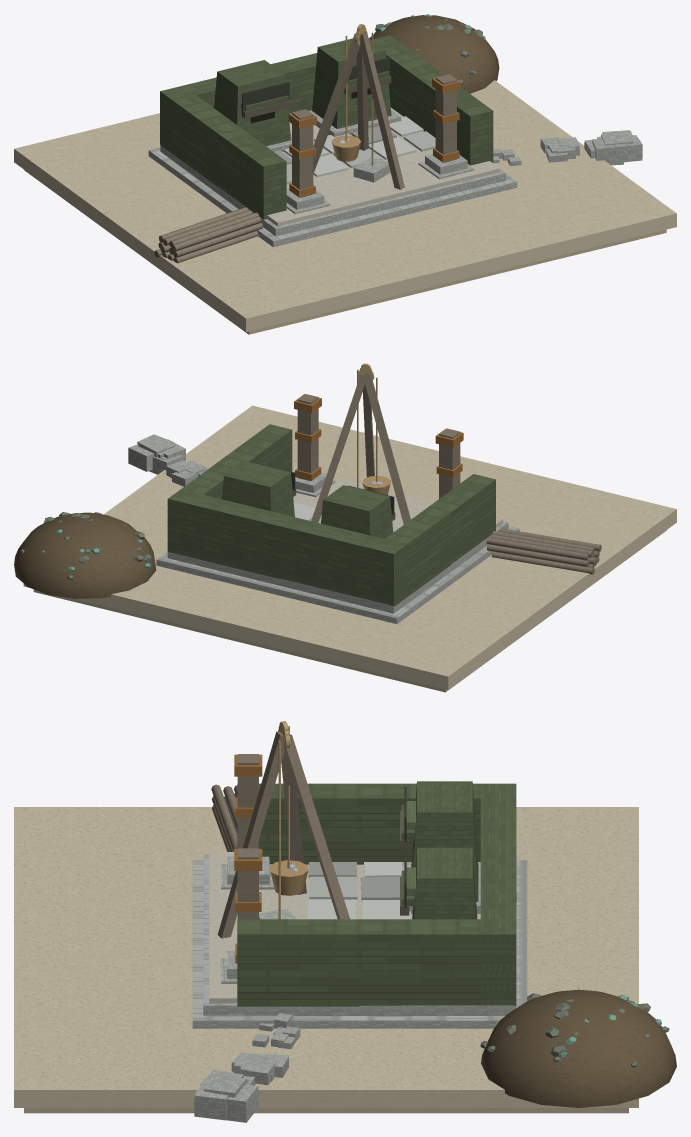
Rendered from lin-3-construction.glb.
3 views of the same model, one above another, from view 1: azimuth 30°, elevation 25°; view 2: azimuth 150°, elevation 25°; view 3: azimuth 270°, elevation 25° (orthographic). The views are drawn at different scales.
Bounding box in the file's own units: 32.97 × 12.53 × 29.7.
Materials: 25 (16 with a texture image).
